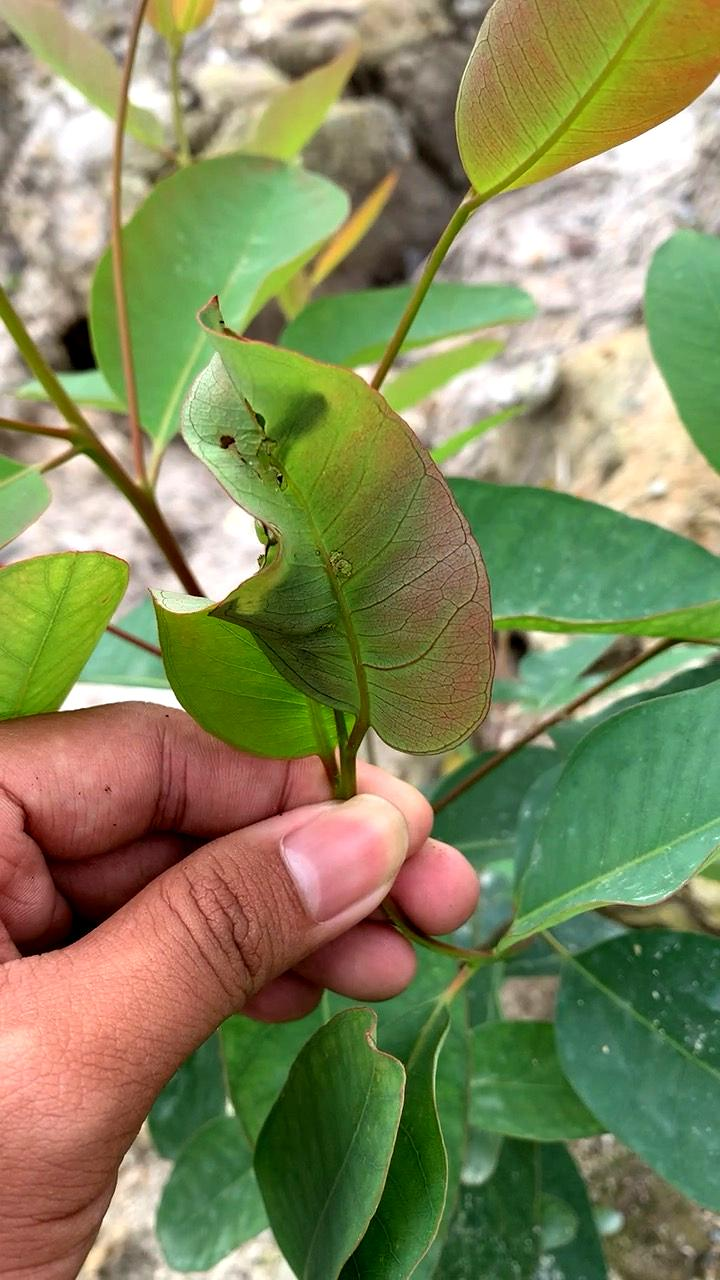Leaf Roller - Leaf: (133, 273, 518, 804)
